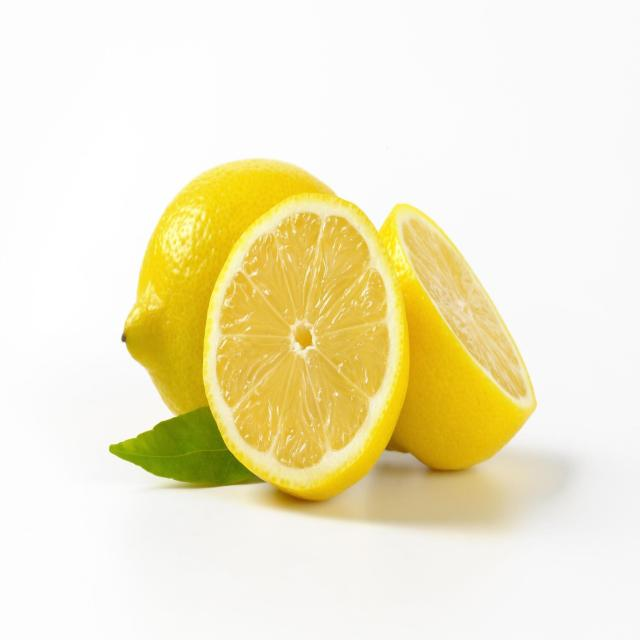lemon: (200, 185, 414, 506)
